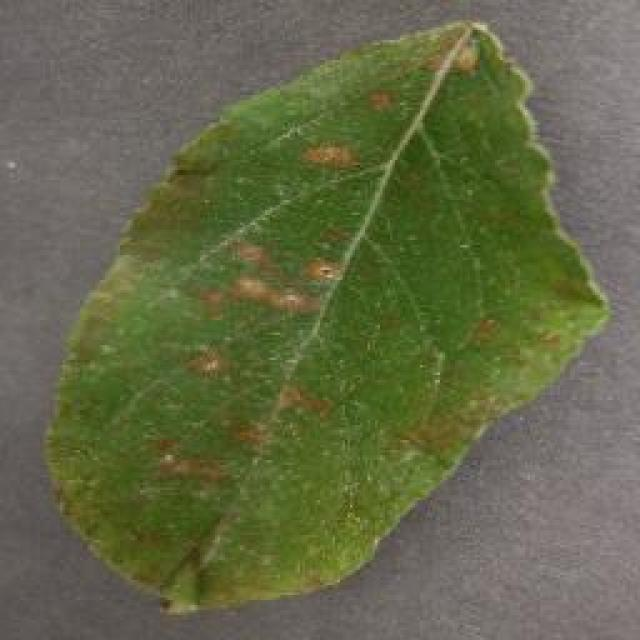apple cedar apple rust: (40, 17, 610, 615)
